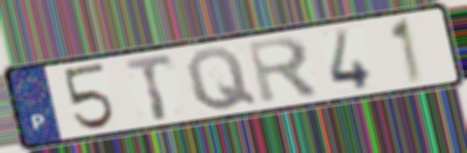1: (388, 13, 425, 87)
4: (325, 25, 377, 92)
5: (59, 60, 116, 133)
Q: (182, 45, 260, 113)
R: (244, 34, 324, 107)
T: (122, 51, 177, 123)
